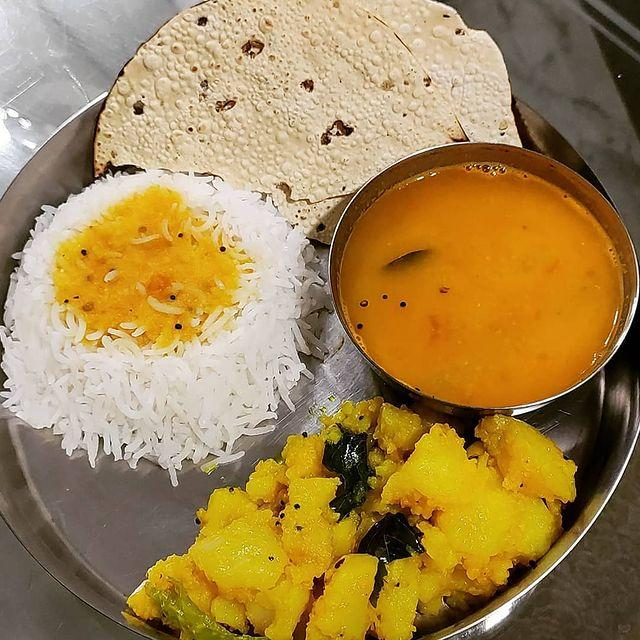Roti: (81, 0, 548, 211)
White Rice: (11, 164, 326, 458)
